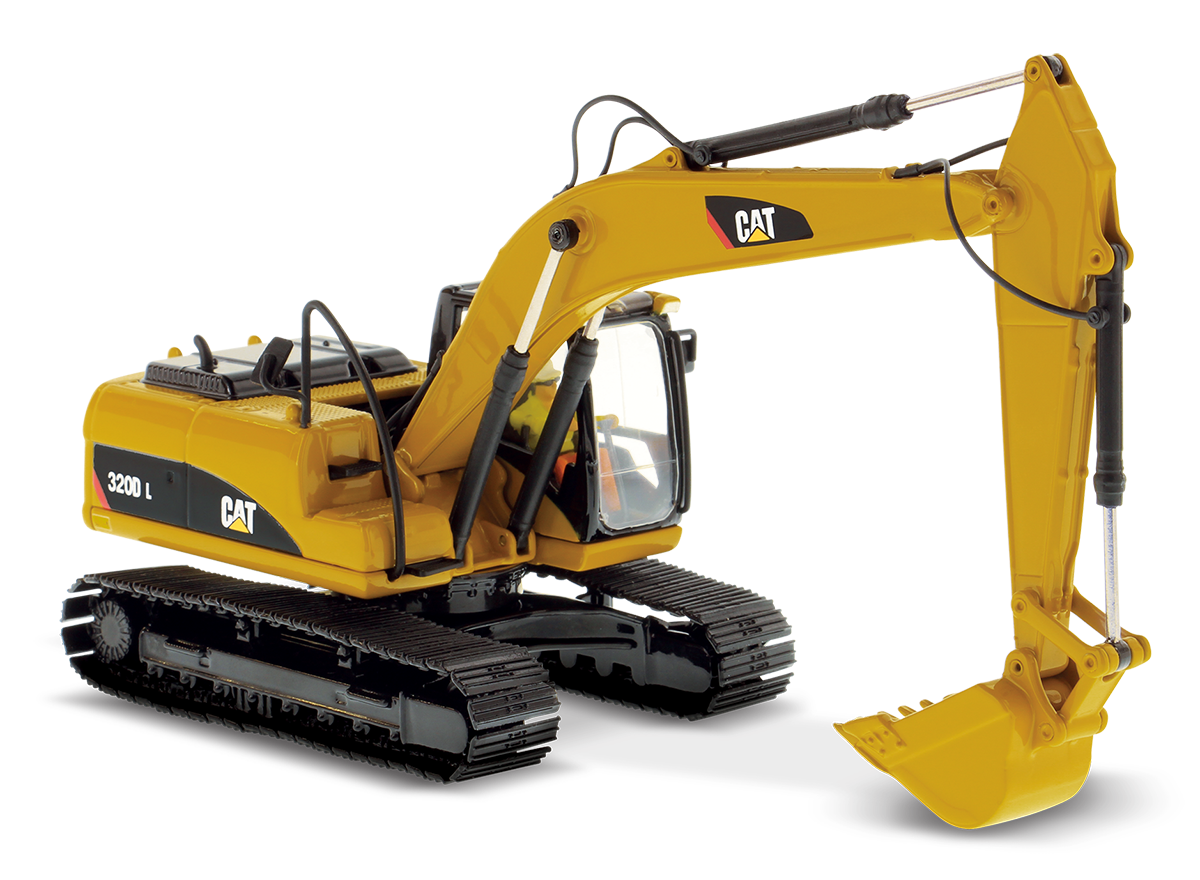backhoe: (54, 26, 1128, 829)
